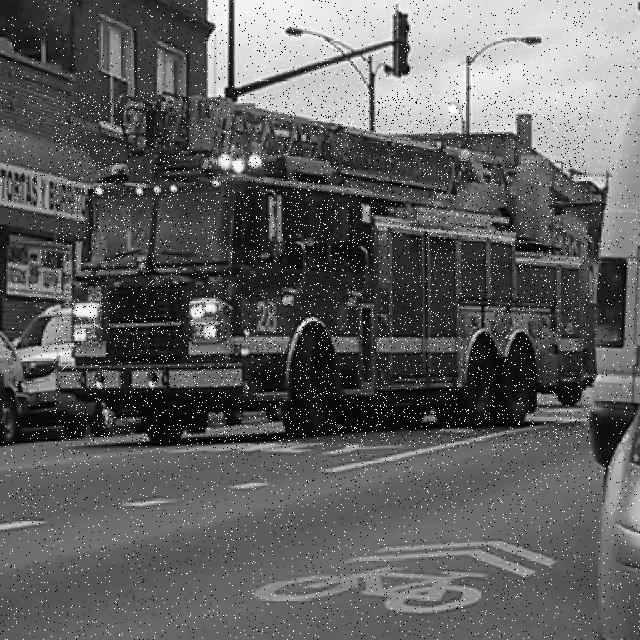Fire Truck: (55, 92, 589, 446)
